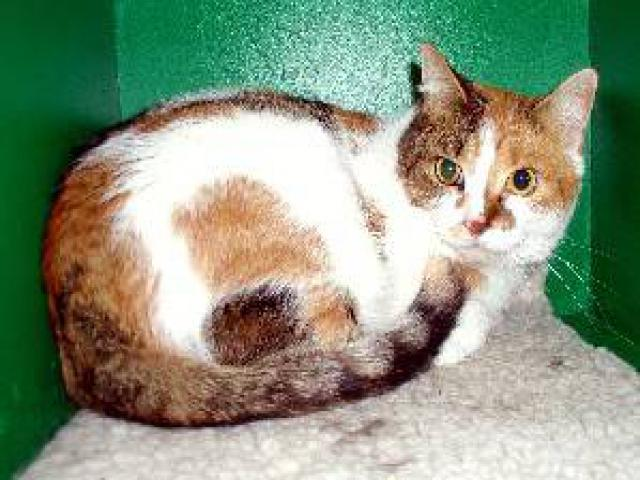cat: (40, 46, 599, 426)
